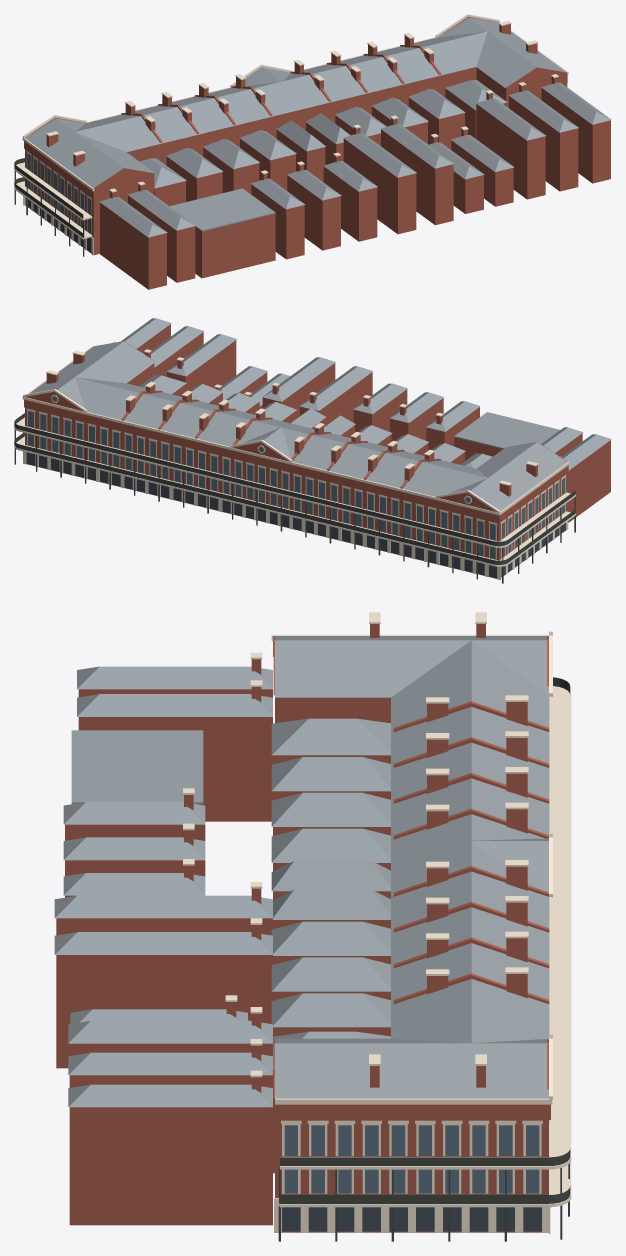
Rendered from nola-lower-pontalba.glb.
The picture shows the model from 3 angles, top to bottom: view 1: azimuth 30°, elevation 25°; view 2: azimuth 150°, elevation 25°; view 3: azimuth 270°, elevation 25°; orthographic projection. The views are drawn at different scales.
Parts seen in each view (by area): view 1: Lower Pontalba Building; view 2: Lower Pontalba Building; view 3: Lower Pontalba Building.
Part boxes in pixels (box(x1,y1,x2,y2)): Lower Pontalba Building: box(14, 14, 611, 289); Lower Pontalba Building: box(14, 318, 611, 583); Lower Pontalba Building: box(54, 612, 571, 1241).
Bounding box in the file's own units: 118 × 19.1 × 53.35.
